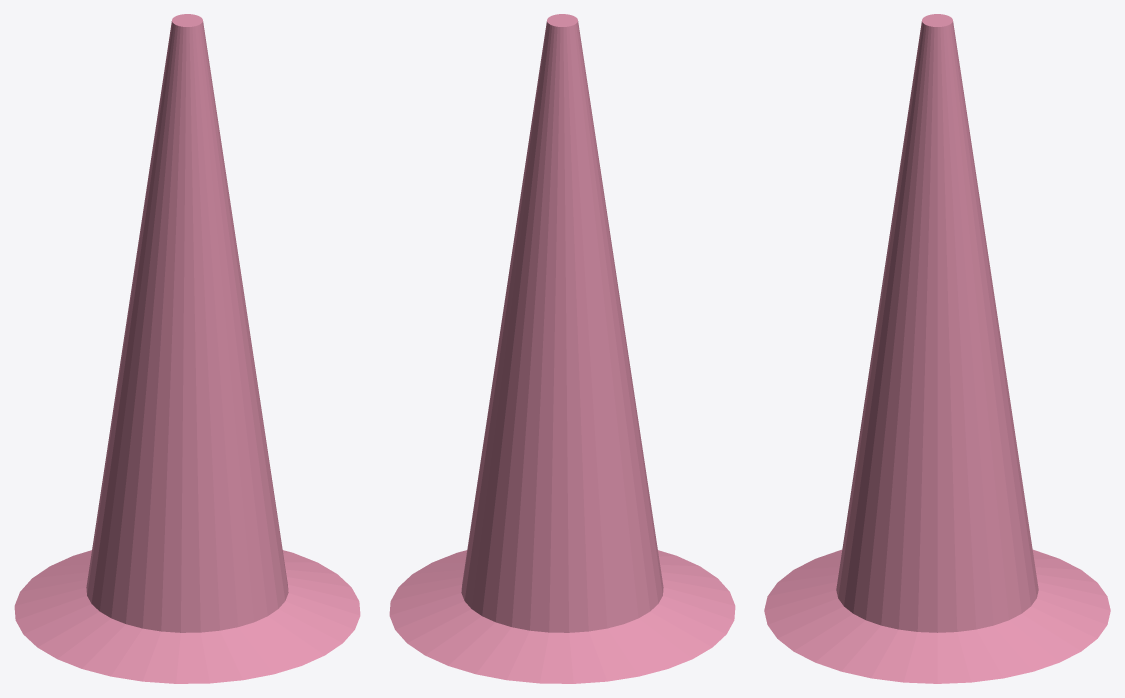
Rendered from HINDER_block.fbx.
3 renders of one model, left to right at view 1: azimuth 30°, elevation 25°; view 2: azimuth 150°, elevation 25°; view 3: azimuth 270°, elevation 25°, orthographic.
Visible parts, largest first — view 1: Circle; view 2: Circle; view 3: Circle.
Boxes of the visible parts, left/top/right/bottom form: Circle: left=14, top=14, right=360, bottom=683; Circle: left=389, top=14, right=735, bottom=683; Circle: left=764, top=14, right=1110, bottom=683.
Bounding box in the file's own units: 200 × 376 × 200.
